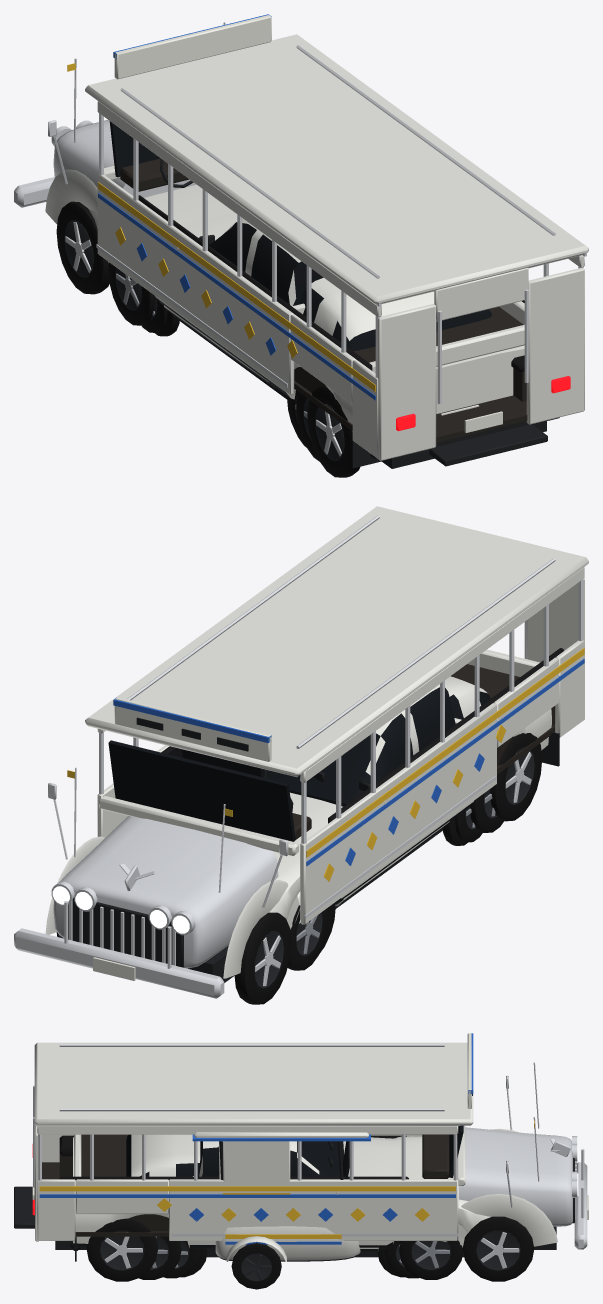
File: traffic.glb
3 views of the same model, one above another, from view 1: azimuth 30°, elevation 25°; view 2: azimuth 150°, elevation 25°; view 3: azimuth 270°, elevation 25° (orthographic). The views are drawn at different scales.
Visible parts, largest first — view 1: jeepney, car_pickup, car_hatch, car_sedan; view 2: jeepney, car_pickup, car_hatch, car_sedan, tricycle; view 3: jeepney, car_pickup, tricycle, car_hatch, car_sedan.
Boxes of the visible parts, x1=… form: jeepney: x1=14, y1=14, x2=588, y2=477; car_pickup: x1=89, y1=184, x2=524, y2=461; car_hatch: x1=155, y1=277, x2=491, y2=431; car_sedan: x1=108, y1=262, x2=306, y2=447; jeepney: x1=14, y1=506, x2=588, y2=1004; car_pickup: x1=266, y1=649, x2=551, y2=970; car_hatch: x1=329, y1=676, x2=490, y2=936; car_sedan: x1=289, y1=712, x2=482, y2=953; tricycle: x1=182, y1=749, x2=370, y2=791; jeepney: x1=14, y1=1033, x2=588, y2=1281; car_pickup: x1=70, y1=1134, x2=490, y2=1279; tricycle: x1=192, y1=1132, x2=370, y2=1289; car_hatch: x1=126, y1=1134, x2=404, y2=1277; car_sedan: x1=163, y1=1171, x2=463, y2=1278.
Bounding box in the file's own units: 2.32 × 2.3 × 6.42.
